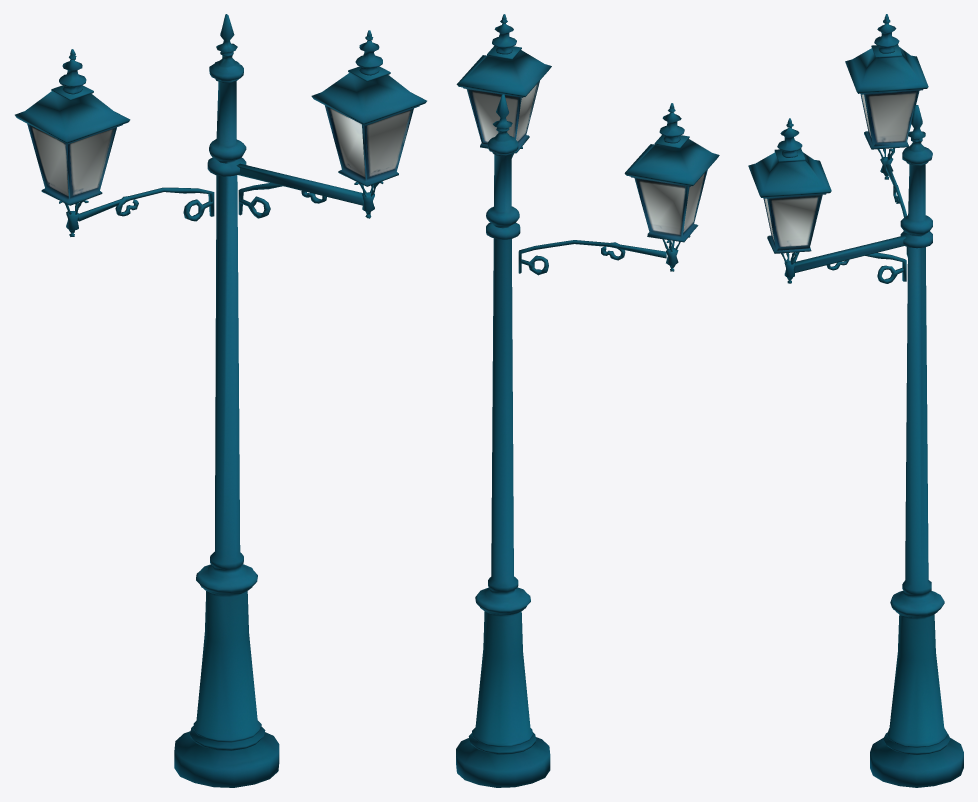
File: lamp.glb
3 views of the same model, side by side, from view 1: azimuth 30°, elevation 25°; view 2: azimuth 150°, elevation 25°; view 3: azimuth 270°, elevation 25° (orthographic). The views are drawn at different scales.
Visible parts, largest first — view 1: tripo_node_359b81f6-e2f5-4eae-b413-8a3789d9471c; view 2: tripo_node_359b81f6-e2f5-4eae-b413-8a3789d9471c; view 3: tripo_node_359b81f6-e2f5-4eae-b413-8a3789d9471c.
Part boxes in pixels (bbox=[...]): tripo_node_359b81f6-e2f5-4eae-b413-8a3789d9471c: bbox=[15, 14, 426, 787]; tripo_node_359b81f6-e2f5-4eae-b413-8a3789d9471c: bbox=[456, 14, 719, 787]; tripo_node_359b81f6-e2f5-4eae-b413-8a3789d9471c: bbox=[748, 14, 963, 787].
Size of the model in its own units: 0.4395 by 0.998 by 0.2871.
Materials: 1 (1 with a texture image).
